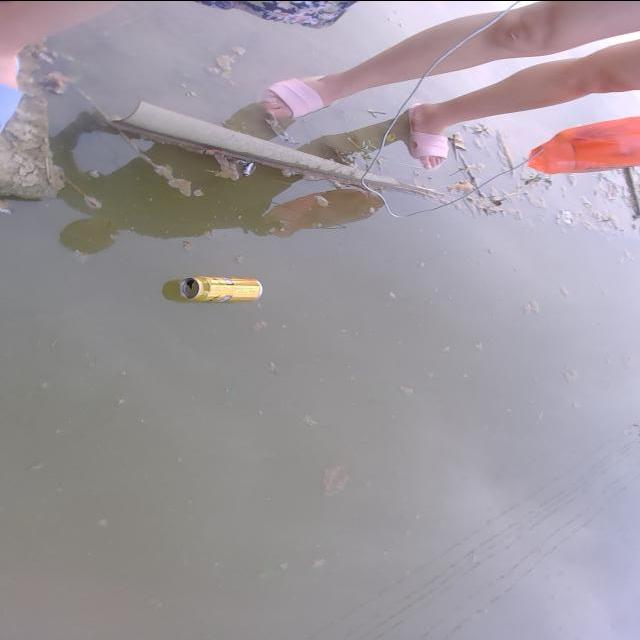Can: (176, 270, 268, 306)
